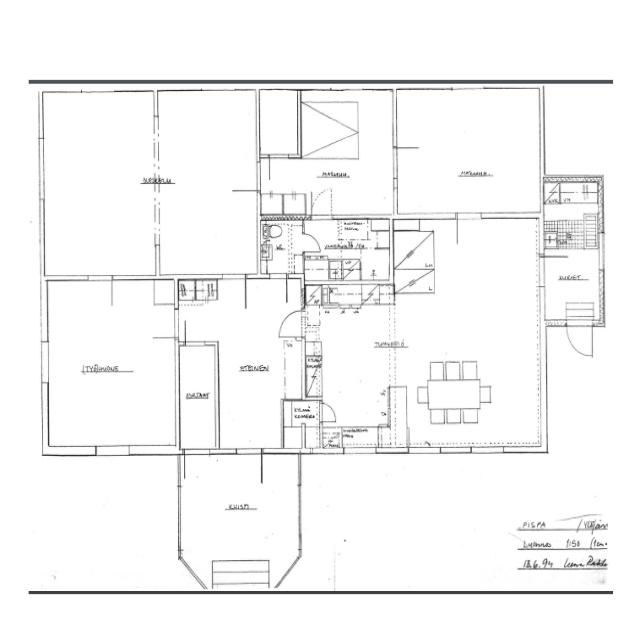door: (184, 448, 210, 486), (236, 448, 262, 486), (567, 320, 592, 358), (540, 257, 571, 287), (368, 148, 397, 178), (393, 148, 422, 178), (230, 591, 255, 625), (150, 309, 179, 338), (457, 214, 481, 249), (232, 162, 260, 191), (88, 275, 111, 310), (222, 275, 245, 309), (279, 311, 305, 337), (311, 188, 332, 219), (185, 317, 205, 346), (270, 154, 288, 182), (270, 275, 286, 302), (319, 403, 338, 422), (302, 234, 320, 252)
